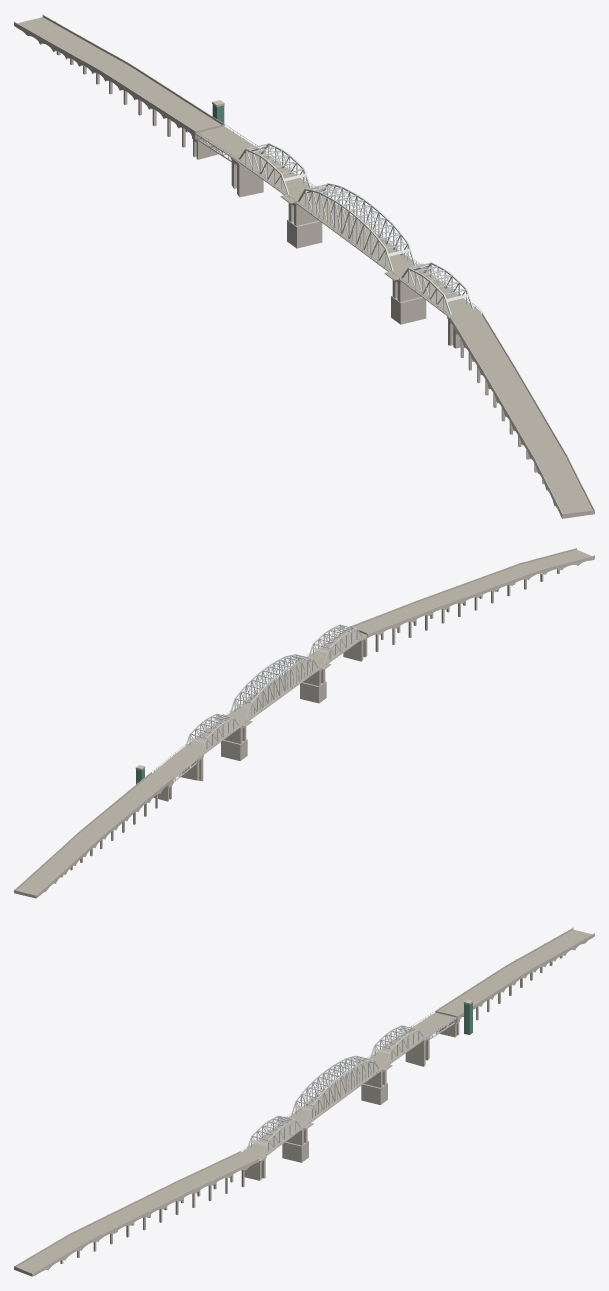
Rendered from nash-seigenthaler-bridge.detail.glb.
3 renders of one model, top to bottom at view 1: azimuth 30°, elevation 25°; view 2: azimuth 150°, elevation 25°; view 3: azimuth 330°, elevation 25°, orthographic. The views are drawn at different scales.
Visible parts, largest first — view 1: John Seigenthaler Pedestrian Bridge; view 2: John Seigenthaler Pedestrian Bridge; view 3: John Seigenthaler Pedestrian Bridge.
Boxes of the visible parts, x1=… form: John Seigenthaler Pedestrian Bridge: x1=14, y1=14, x2=594, y2=518; John Seigenthaler Pedestrian Bridge: x1=14, y1=548, x2=594, y2=898; John Seigenthaler Pedestrian Bridge: x1=14, y1=927, x2=594, y2=1276.
Bounding box in the file's own units: 72.09 × 39.28 × 613.
